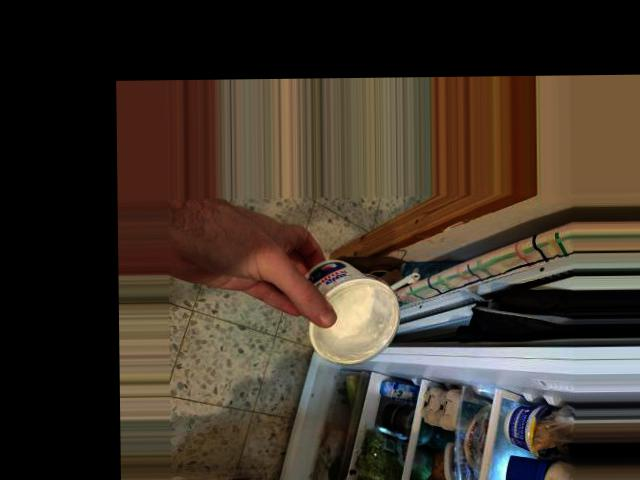cotage: (294, 252, 410, 366)
